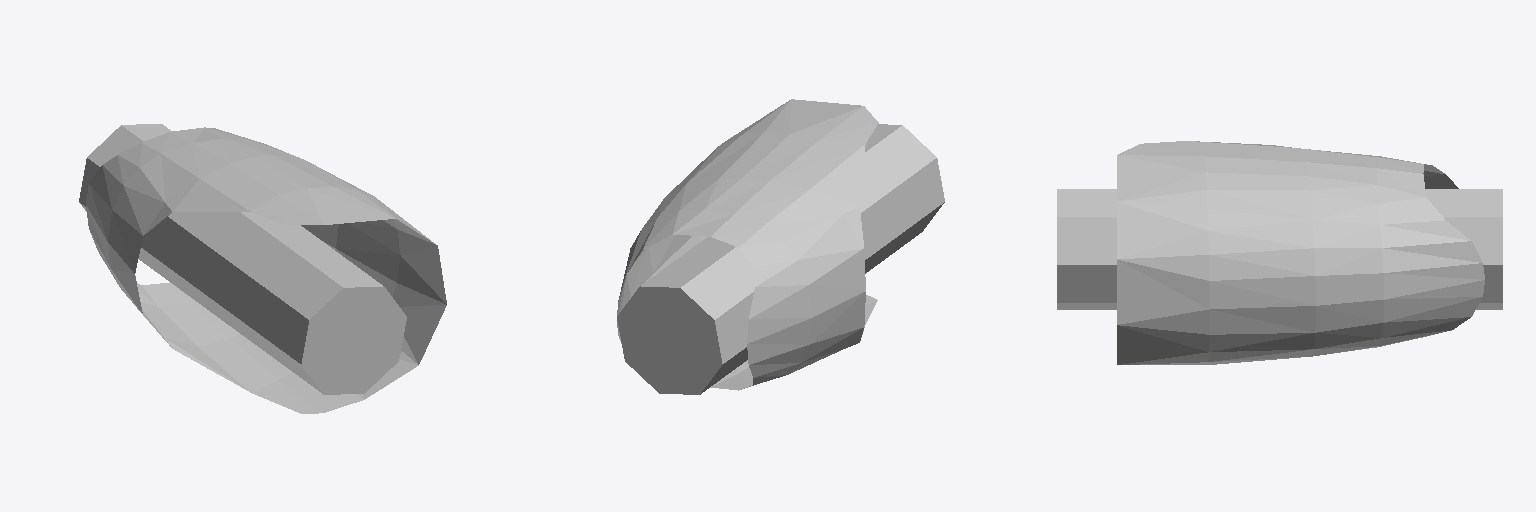
File: icub_simple_collision_r_forearm.obj
The picture shows the model from 3 angles: view 1: azimuth 30°, elevation 25°; view 2: azimuth 150°, elevation 25°; view 3: azimuth 270°, elevation 25°; orthographic projection.
Parts seen in each view (by area): view 1: r_forearm_mesh_Cylinder.011; view 2: r_forearm_mesh_Cylinder.011; view 3: r_forearm_mesh_Cylinder.011.
Boxes of the visible parts, x1=… form: r_forearm_mesh_Cylinder.011: x1=79, y1=124, x2=446, y2=413; r_forearm_mesh_Cylinder.011: x1=617, y1=99, x2=944, y2=394; r_forearm_mesh_Cylinder.011: x1=1057, y1=141, x2=1502, y2=364.
Size of the model in its own units: 0.0795 by 0.0652 by 0.14.